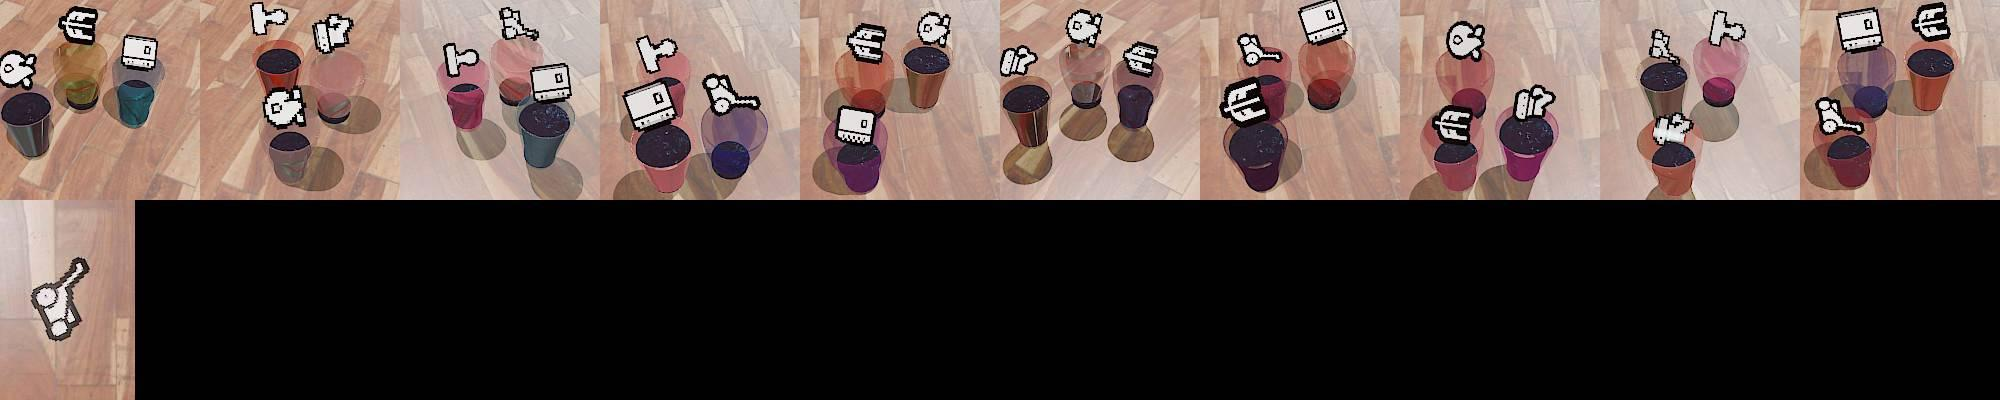icon: (29, 257, 102, 343), (622, 80, 681, 132), (703, 73, 761, 116), (1835, 8, 1885, 55), (1812, 94, 1867, 136), (1297, 0, 1347, 46), (1219, 80, 1265, 126), (1431, 104, 1480, 148), (834, 103, 878, 148), (263, 87, 306, 129), (312, 11, 353, 55), (635, 33, 679, 74), (529, 62, 573, 103), (1445, 19, 1486, 61), (846, 23, 888, 62), (1513, 84, 1557, 121), (1239, 32, 1284, 68), (1911, 3, 1952, 42), (499, 5, 540, 43), (1708, 9, 1747, 47), (1065, 9, 1103, 48), (1653, 111, 1695, 146), (60, 6, 98, 45), (250, 1, 290, 38), (441, 42, 481, 79), (0, 50, 37, 89), (120, 34, 159, 71), (1122, 42, 1159, 79), (916, 10, 953, 47), (1000, 45, 1040, 78), (1649, 28, 1676, 61)
